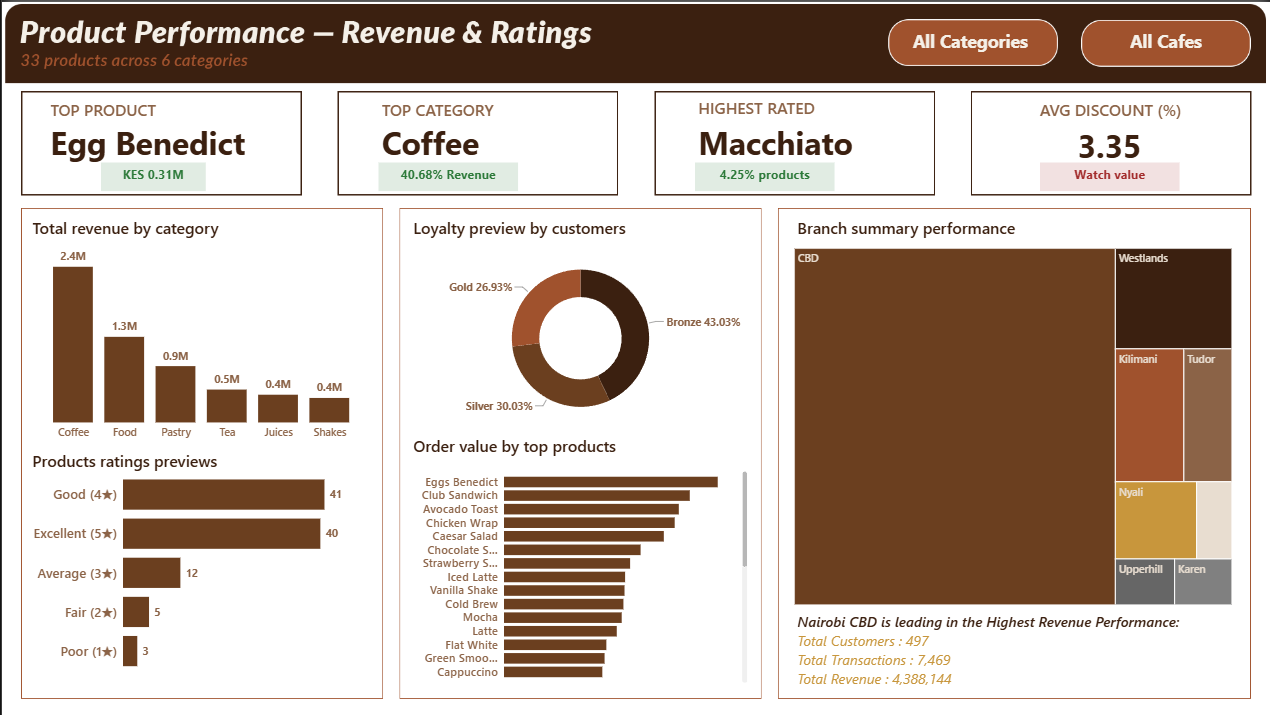

This screenshot's page, from the dashboard's own definition file:
{"tool":"powerbi","page":{"name":"Page 4-Products","canvas":[1920,1080],"ordinal":3},"visuals":[{"type":"cardVisual","fields":{"Data":["public sales_transaction.avg_discount"]},"box":[1465,138.5,424.7,154.4],"z":0},{"type":"textbox","box":[570.1,140.8,299.8,56.8],"z":1000},{"type":"textbox","box":[1049.3,138.5,299.8,56.8],"z":2000},{"type":"textbox","box":[1530.9,140.8,295.3,56.8],"z":3000},{"type":"clusteredColumnChart","fields":{"Category":["public products.category"],"Y":["public sales_transaction.total_revenue"]},"box":[40.9,356.6,522.4,315.7],"z":4000},{"type":"clusteredBarChart","fields":{"Category":["public products_ratings.ratings_seg"],"Y":["Sum(public products_ratings.pct_reviews)"]},"box":[40.9,685.9,522.4,349.8],"z":5000},{"type":"donutChart","fields":{"Category":["public customers.loyaltytier"],"Y":["public customers.total_customers"]},"box":[617.8,368,515.6,281.6],"z":6000},{"type":"clusteredBarChart","fields":{"Category":["public products.productname"],"Y":["public sales_transaction.avg_order_value"]},"box":[617.8,697.3,515.6,338.4],"z":7000},{"type":"treemap","fields":{"Group":["public sales_transaction.branch"],"Values":["public sales_transaction.total_transactions"]},"box":[1194.7,368,672.3,549.7],"z":8000},{"type":"textbox","box":[1199.3,917.6,608.7,124.9],"z":9000},{"type":"textbox","box":[570.1,174.5,274.8,93.1],"z":10000},{"type":"textbox","box":[68.1,174.9,322.5,93.1],"z":11000},{"type":"textbox","box":[68.1,140.8,299.8,56.8],"z":12000},{"type":"textbox","box":[1049.3,174.5,274.8,93.1],"z":13000},{"type":"textbox","box":[1651.2,36.3,229.4,50],"z":14000},{"type":"textbox","box":[1351.4,36.3,229.4,50],"z":15000},{"type":"textbox","box":[40.9,320.3,522.4,47.7],"z":16000},{"type":"textbox","box":[40.9,672.3,522.4,47.7],"z":17000},{"type":"textbox","box":[617.8,649.6,515.6,47.7],"z":18000},{"type":"textbox","box":[617.8,320.3,515.6,47.7],"z":19000},{"type":"textbox","box":[1199.3,320.3,667.8,47.7],"z":20000},{"type":"textbox","box":[149.9,243,159,43.2],"z":21000},{"type":"textbox","box":[570.1,243,211.2,43.2],"z":22000},{"type":"textbox","box":[1049.3,243,211.2,43.2],"z":23000},{"type":"textbox","box":[1571.7,243,211.2,43.2],"z":24000}]}

Visuals, with their boxes in screenshot pixels (x1, y1, x2, y2), scaled from the page's 1920x1080 canvas onto the 1270x715 screenshot:
cardVisual - public sales_transaction.avg_discount: [left=969, top=92, right=1250, bottom=194]
textbox: [left=377, top=93, right=575, bottom=131]
textbox: [left=694, top=92, right=892, bottom=129]
textbox: [left=1013, top=93, right=1208, bottom=131]
clusteredColumnChart - public products.category x public sales_transaction.total_revenue: [left=27, top=236, right=373, bottom=445]
clusteredBarChart - public products_ratings.ratings_seg x Sum(public products_ratings.pct_reviews): [left=27, top=454, right=373, bottom=686]
donutChart - public customers.loyaltytier x public customers.total_customers: [left=409, top=244, right=750, bottom=430]
clusteredBarChart - public products.productname x public sales_transaction.avg_order_value: [left=409, top=462, right=750, bottom=686]
treemap - public sales_transaction.branch x public sales_transaction.total_transactions: [left=790, top=244, right=1235, bottom=608]
textbox: [left=793, top=607, right=1196, bottom=690]
textbox: [left=377, top=116, right=559, bottom=177]
textbox: [left=45, top=116, right=258, bottom=177]
textbox: [left=45, top=93, right=243, bottom=131]
textbox: [left=694, top=116, right=876, bottom=177]
textbox: [left=1092, top=24, right=1244, bottom=57]
textbox: [left=894, top=24, right=1046, bottom=57]
textbox: [left=27, top=212, right=373, bottom=244]
textbox: [left=27, top=445, right=373, bottom=477]
textbox: [left=409, top=430, right=750, bottom=462]
textbox: [left=409, top=212, right=750, bottom=244]
textbox: [left=793, top=212, right=1235, bottom=244]
textbox: [left=99, top=161, right=204, bottom=189]
textbox: [left=377, top=161, right=517, bottom=189]
textbox: [left=694, top=161, right=834, bottom=189]
textbox: [left=1040, top=161, right=1179, bottom=189]
